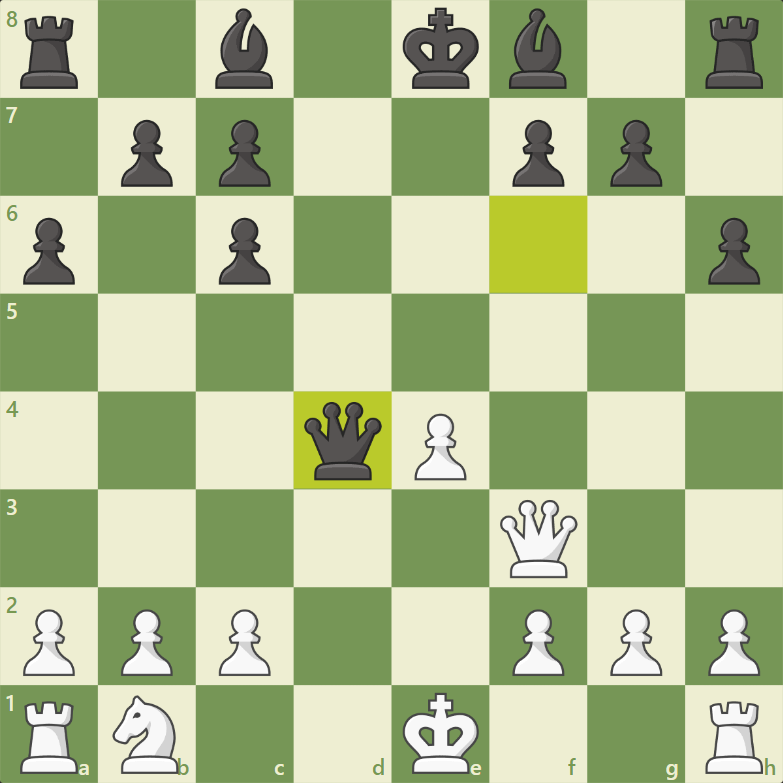K: (400, 691, 481, 778)
N: (110, 694, 182, 777)
P: (20, 606, 76, 678), (119, 607, 175, 679), (215, 608, 271, 680), (510, 607, 566, 679), (608, 608, 664, 680), (705, 607, 761, 679), (412, 412, 468, 484)
Q: (498, 499, 580, 580)
R: (704, 698, 766, 777), (19, 699, 81, 777)
b: (211, 5, 276, 91), (506, 7, 571, 93)
k: (399, 4, 481, 92)
p: (20, 216, 77, 289), (216, 216, 273, 289), (119, 117, 176, 190), (216, 118, 273, 191), (510, 118, 567, 191), (607, 118, 664, 191), (706, 215, 763, 288)
q: (301, 400, 385, 483)
r: (16, 12, 82, 93), (702, 13, 766, 92)
